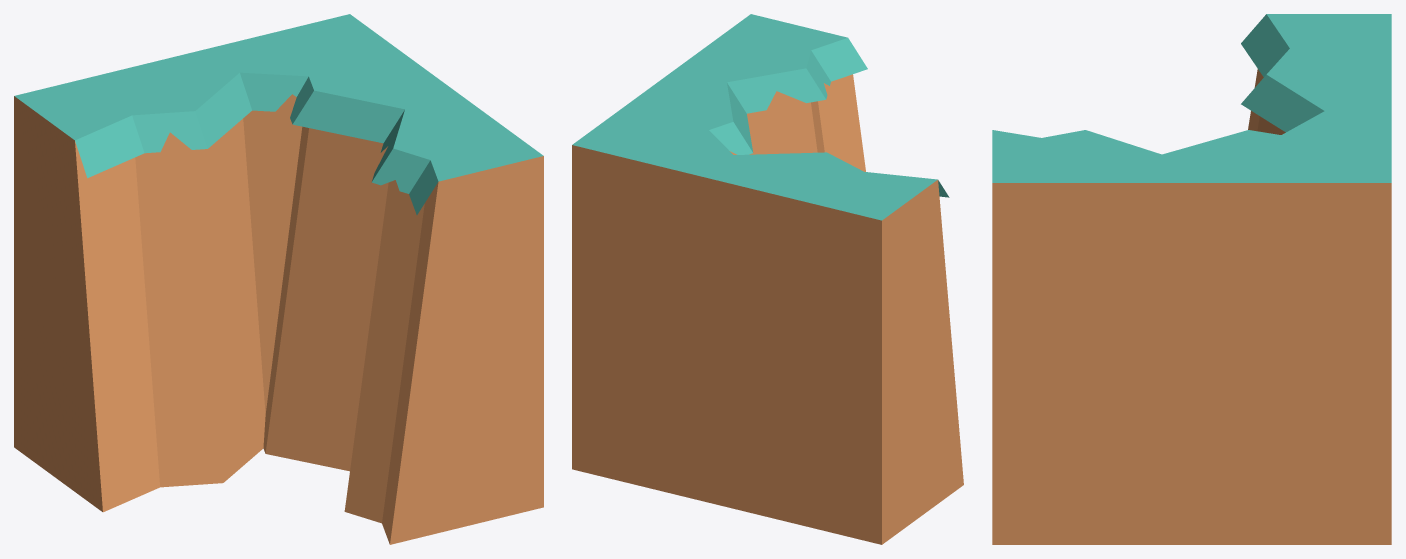
Rendered from cliffBrown_cornerInnerTop.fbx.
The picture shows the model from 3 angles, left to right: view 1: azimuth 30°, elevation 25°; view 2: azimuth 150°, elevation 25°; view 3: azimuth 270°, elevation 25°; orthographic projection. The views are drawn at different scales.
Parts seen in each view (by area): view 1: cliffBrown_cornerInnerTop; view 2: cliffBrown_cornerInnerTop; view 3: cliffBrown_cornerInnerTop.
Boxes of the visible parts, box(x1,y1,x2,y2) form: cliffBrown_cornerInnerTop: box(14, 14, 543, 544); cliffBrown_cornerInnerTop: box(572, 14, 963, 544); cliffBrown_cornerInnerTop: box(992, 14, 1391, 544).
Bounding box in the file's own units: 10 × 10 × 10.
